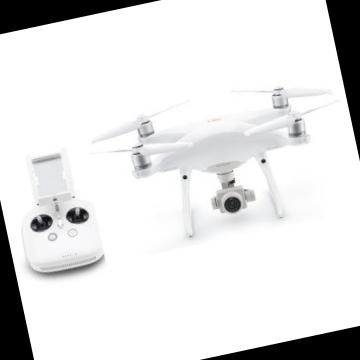drone: (72, 58, 354, 240)
